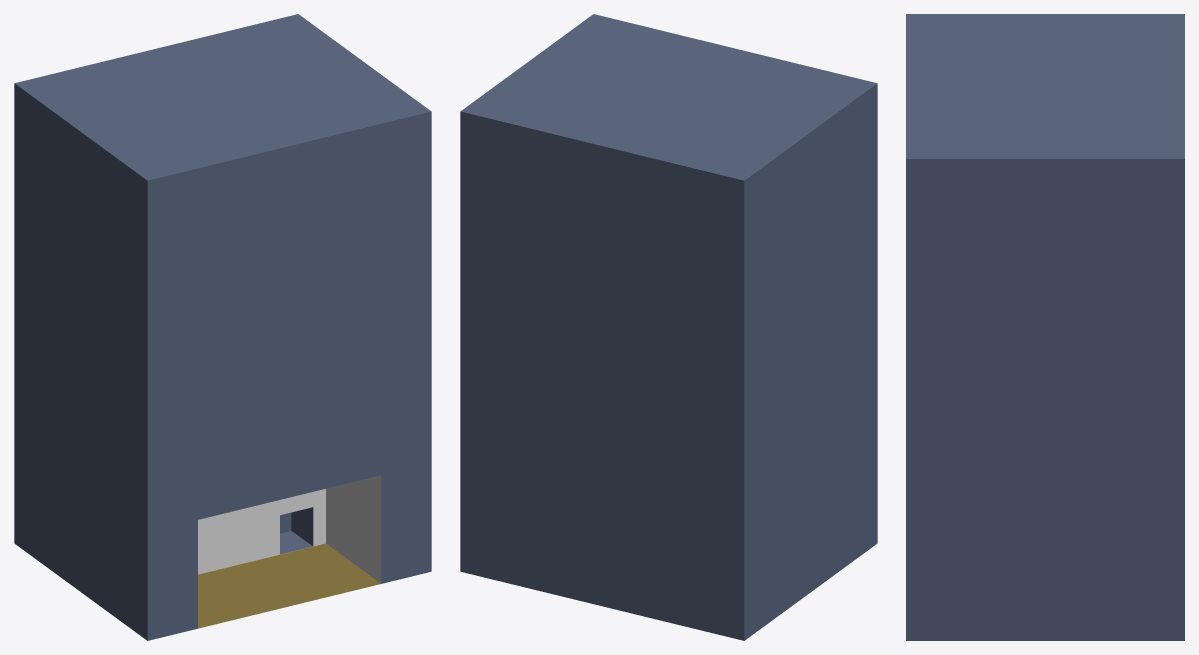
The model's file is BaseAscensor.fbx.
3 views of the same model, side by side, from view 1: azimuth 30°, elevation 25°; view 2: azimuth 150°, elevation 25°; view 3: azimuth 270°, elevation 25° (orthographic). The views are drawn at different scales.
Parts seen in each view (by area): view 1: Cube.001; view 2: Cube.001; view 3: Cube.001.
Boxes of the visible parts, bbox=[...] form: Cube.001: bbox=[14, 14, 431, 640]; Cube.001: bbox=[460, 14, 877, 640]; Cube.001: bbox=[906, 14, 1184, 640].
Bounding box in the file's own units: 1858 × 2878 × 1510.
